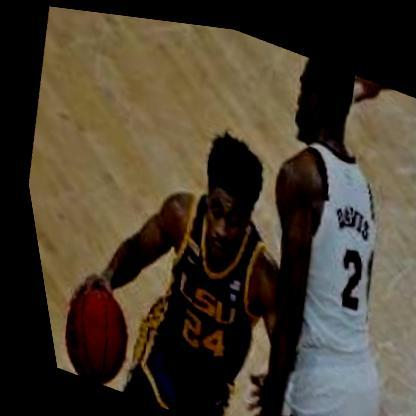basketball: (34, 271, 137, 393)
